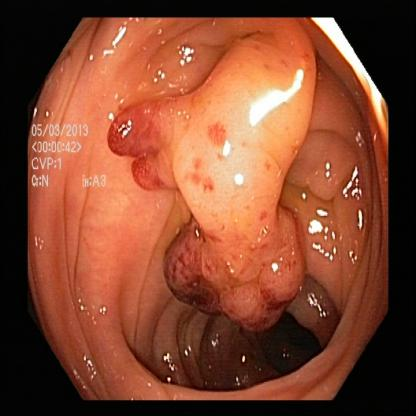Labels: (29, 120, 116, 209)
Polyps: (127, 81, 333, 308)
